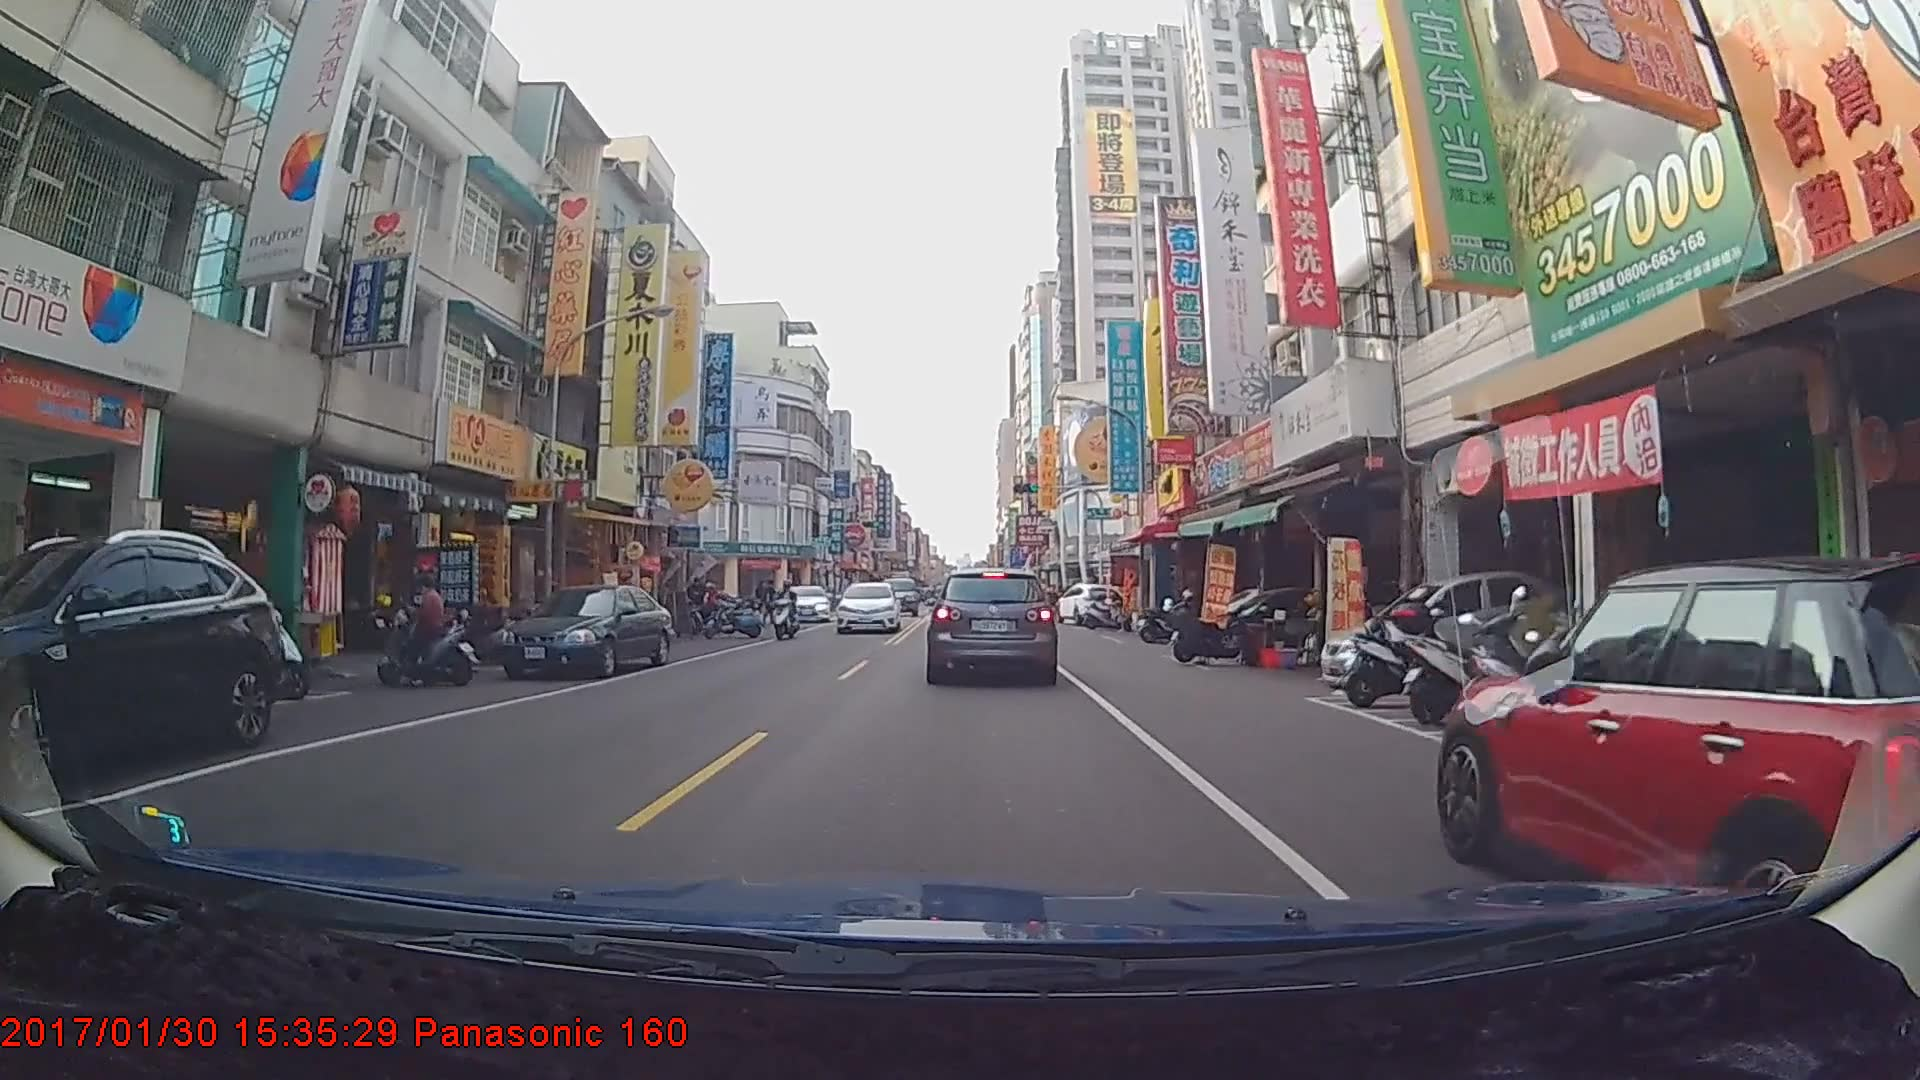rider: (370, 572, 489, 696), (770, 584, 800, 642)
vehicle: (1435, 557, 1920, 943), (0, 534, 277, 793), (496, 588, 676, 677), (929, 564, 1055, 681), (836, 580, 897, 633), (1055, 581, 1125, 627), (780, 581, 829, 620), (875, 577, 918, 617)
